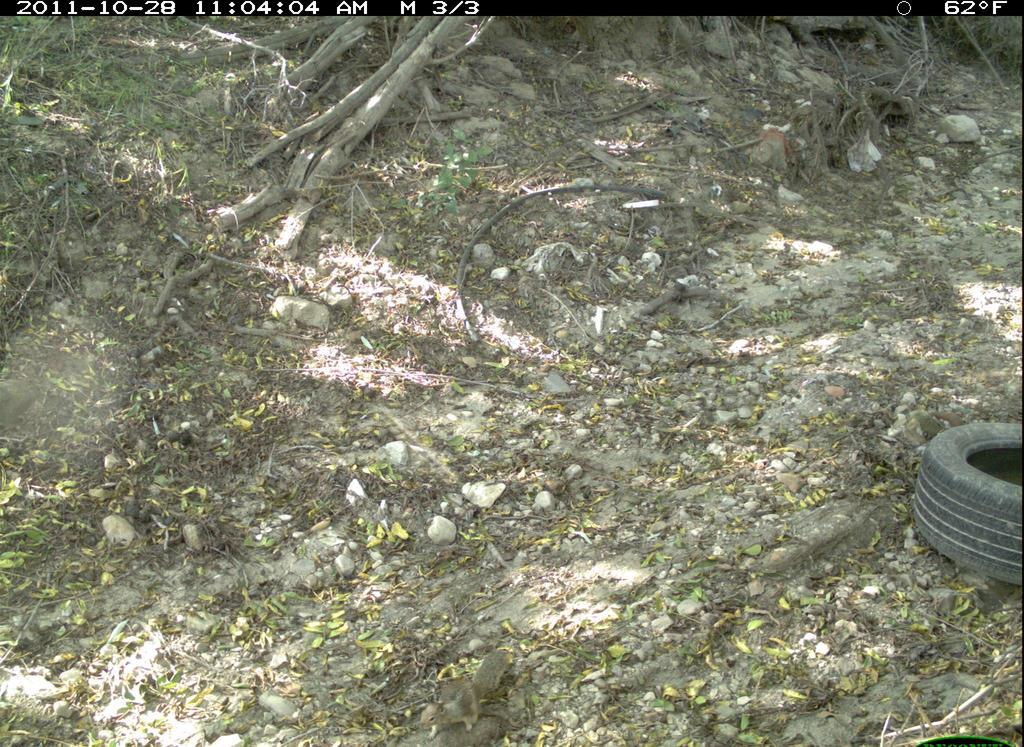squirrel: (402, 638, 537, 740)
